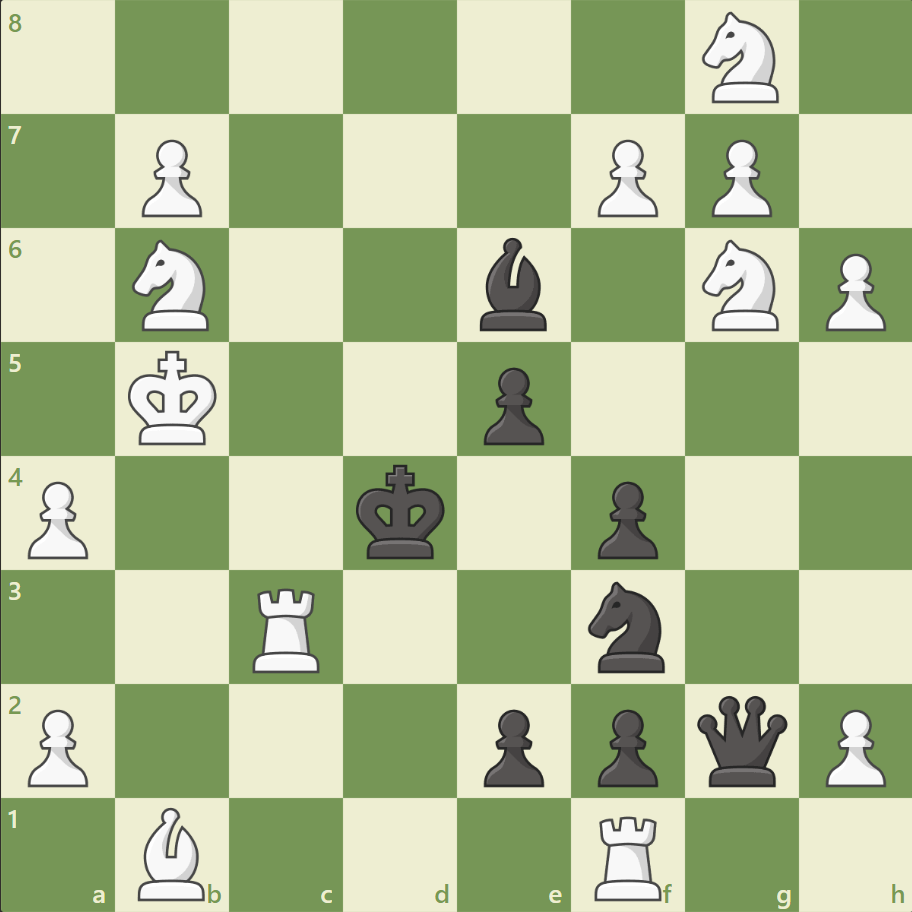B: (131, 801, 215, 904)
K: (124, 344, 224, 452)
N: (124, 234, 222, 337), (692, 7, 789, 110), (692, 234, 789, 337)
P: (133, 132, 208, 223), (701, 132, 776, 223), (20, 473, 95, 564), (20, 700, 95, 791), (588, 132, 662, 223), (815, 246, 889, 337), (815, 700, 889, 791)
R: (587, 806, 670, 904), (246, 579, 329, 676)
b: (471, 233, 555, 336)
k: (351, 458, 451, 566)
n: (579, 575, 676, 677)
p: (474, 359, 549, 450), (474, 700, 549, 791), (588, 473, 662, 564), (588, 700, 662, 791)
q: (691, 690, 790, 789)
